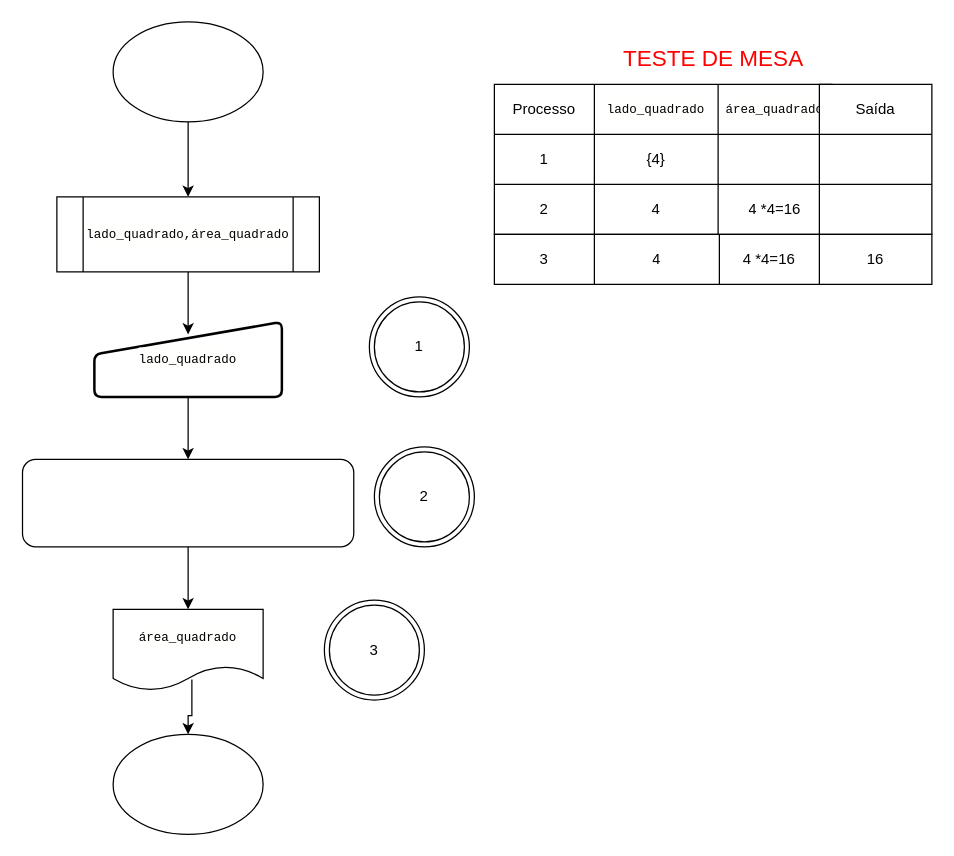
Image size: 954x856. Some labels were removed from this diagram. The box of each missing label's shape, as (x1, y1, x2, y2) in pixels:
Fim: (112, 733, 263, 834)
INÍCIO: (112, 21, 263, 122)
área_quadrado = lado_quadrado* lado_quadrado: (21, 458, 354, 547)
